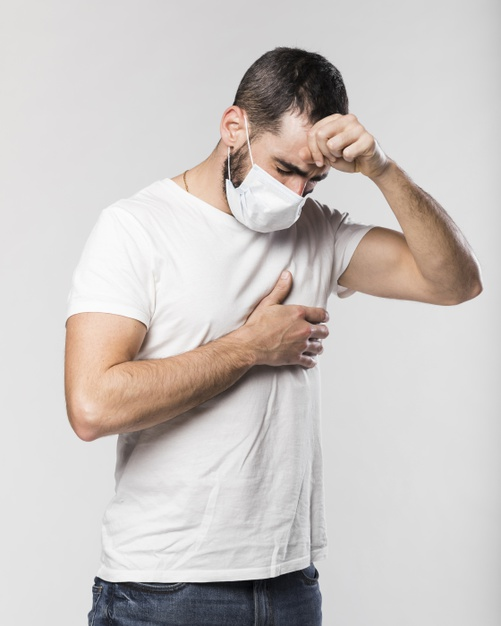mask: (214, 166, 321, 247)
